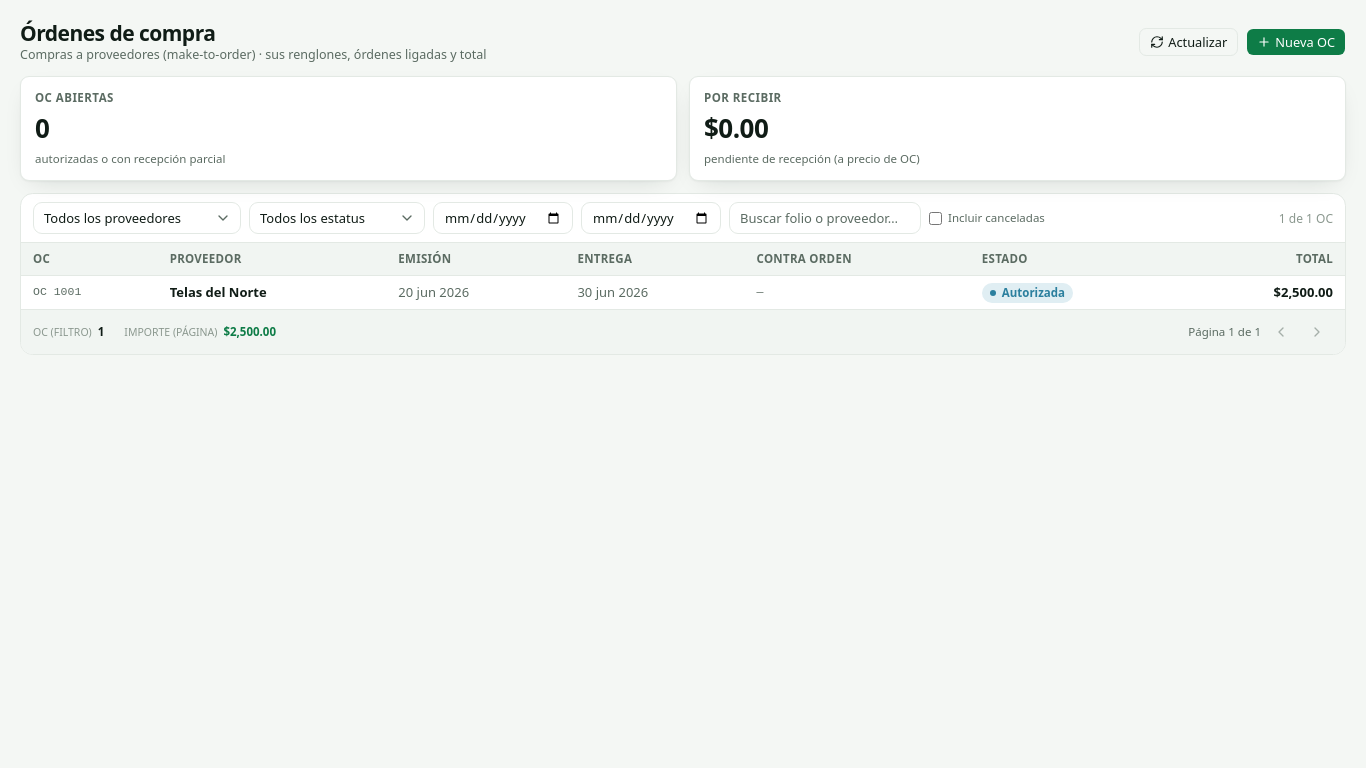
Test: OrdenesCompraPagina (F4-E2) › una OC autorizada NO ofrece Editar a un no-admin (sí "Ver")
Click the row with test id "fila-oc" at (218, 292), box [21,275,1345,309]
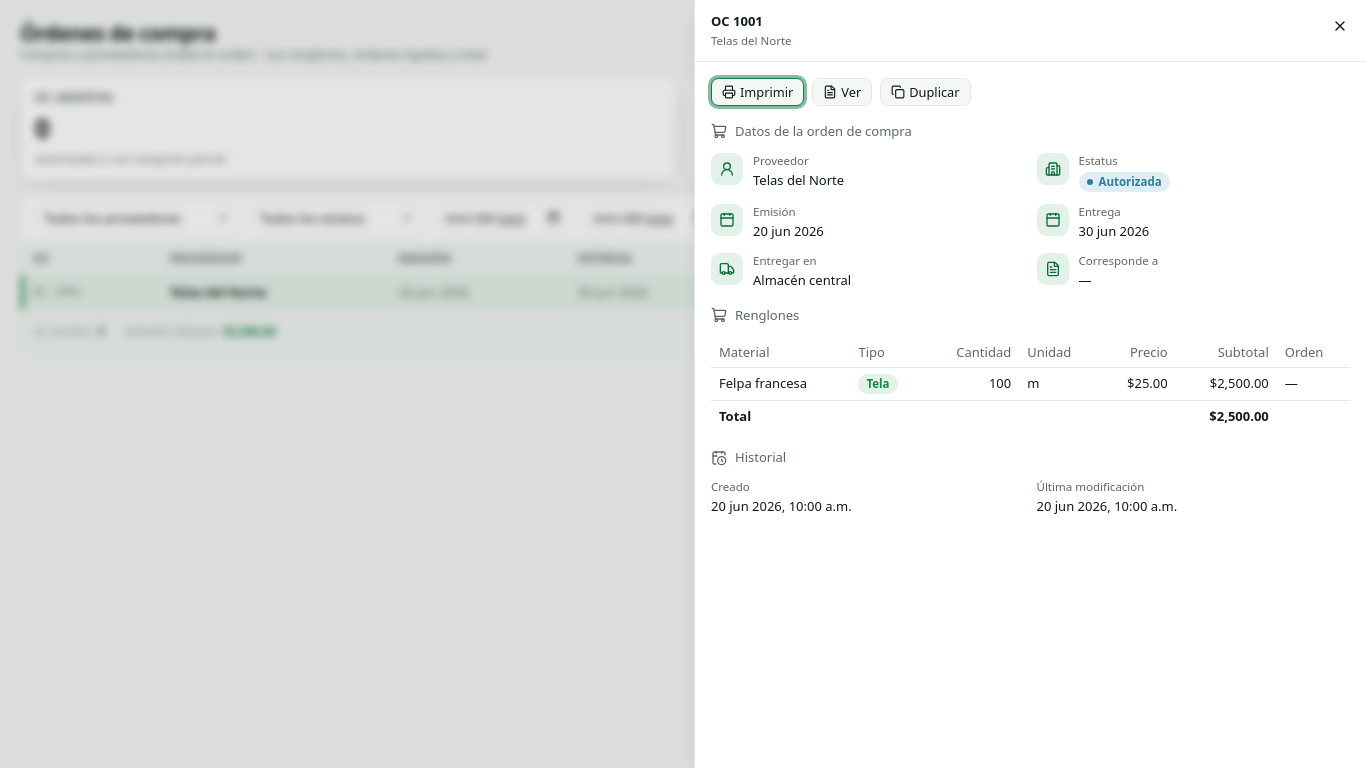
Expected: the button with test id "ver-oc" is shown, [812,78,872,106]
